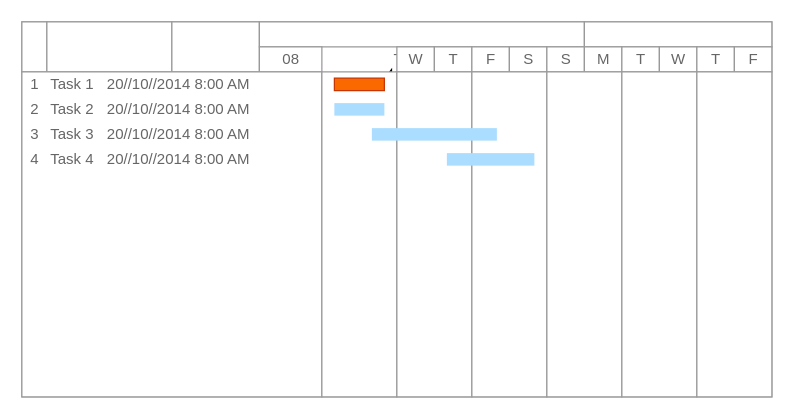
Some shapes in this 794 by 419 pixel diagram are drawn without their labels. Each missing label, with the centre of its shape:
August-2024: pixel 421 34
Feb-2025: pixel 677 34
Id: pixel 34 46
Start: pixel 215 46
Task Name: pixel 109 46
